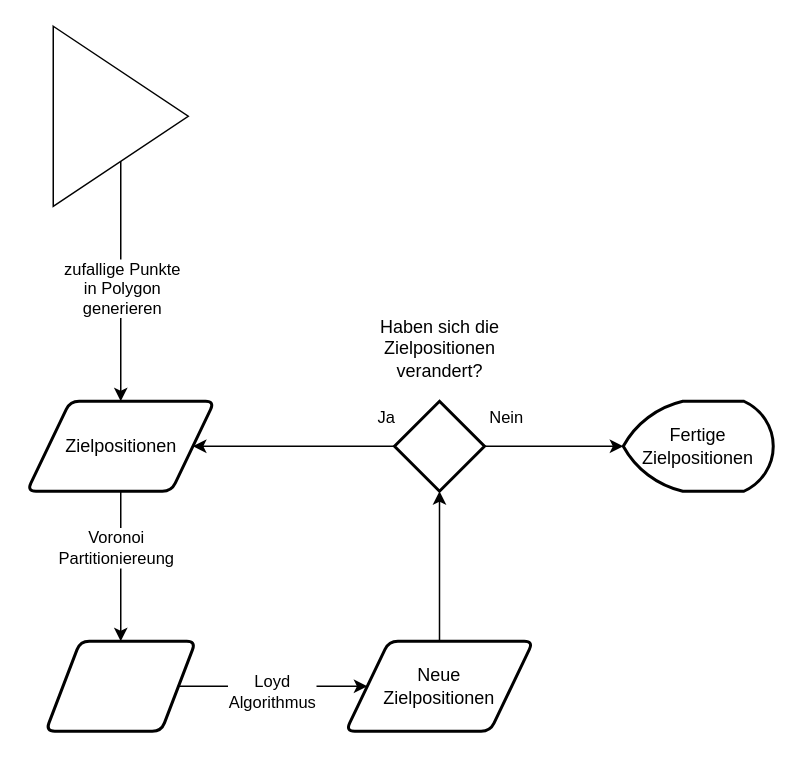
Image size: 801x759. Some labels were removed from this diagram. Here are the shapes that lost their labels. From the top down, the centre of each, then its label:
At pixel 120 115: "Polygon".
At pixel 120 685: "Voronoi Zellen".
